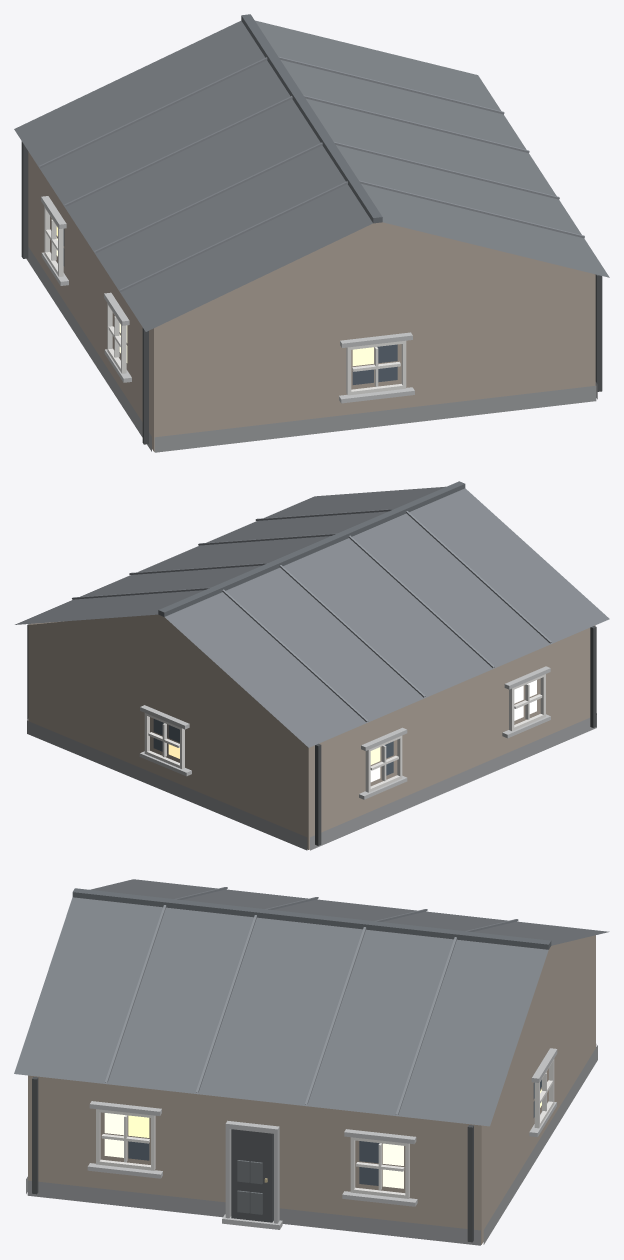
3 views of the same model, one above another, from view 1: azimuth 30°, elevation 25°; view 2: azimuth 150°, elevation 25°; view 3: azimuth 270°, elevation 25° (orthographic). The views are drawn at different scales.
Visible parts, largest first — view 1: slate, harl_brown, plinth, slate_lt, frame, slate_dk, pipe, stone_band, windows; view 2: slate, harl_brown, plinth, slate_lt, frame, slate_dk, stone_band, pipe, windows; view 3: slate, harl_brown, plinth, stone_band, slate_dk, frame, windows, slate_lt, door_dark, pipe, door_dark_p.
Part boxes in pixels (x1,y1,x2,y2): slate: [14, 20, 609, 331]; harl_brown: [28, 151, 595, 451]; plinth: [26, 247, 597, 452]; slate_lt: [39, 56, 584, 291]; frame: [44, 206, 406, 395]; slate_dk: [241, 14, 382, 223]; pipe: [21, 141, 602, 444]; stone_band: [41, 196, 414, 403]; windows: [56, 226, 397, 384]; slate: [15, 486, 609, 747]; harl_brown: [28, 614, 595, 849]; plinth: [27, 713, 596, 850]; slate_lt: [72, 509, 551, 722]; frame: [144, 674, 545, 792]; slate_dk: [158, 481, 465, 616]; stone_band: [139, 666, 550, 799]; pipe: [27, 624, 596, 845]; windows: [153, 680, 536, 782]; slate: [14, 879, 609, 1126]; harl_brown: [28, 935, 595, 1244]; plinth: [26, 1044, 597, 1245]; stone_band: [87, 1048, 557, 1229]; slate_dk: [72, 888, 551, 949]; frame: [96, 1059, 554, 1198]; windows: [104, 1079, 541, 1188]; slate_lt: [105, 887, 518, 1115]; door_dark: [231, 1129, 273, 1222]; pipe: [32, 1077, 473, 1242]; door_dark_p: [237, 1160, 262, 1214].
Bounding box in the file's own units: 12.15 × 4.86 × 12.38.
